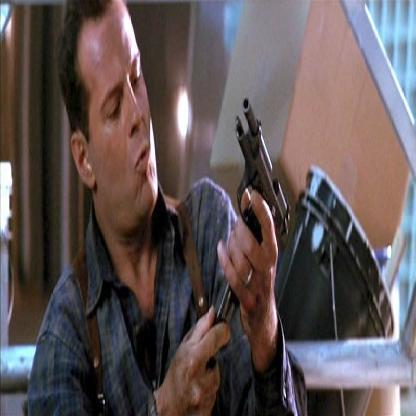Pistol: (190, 85, 298, 338)
